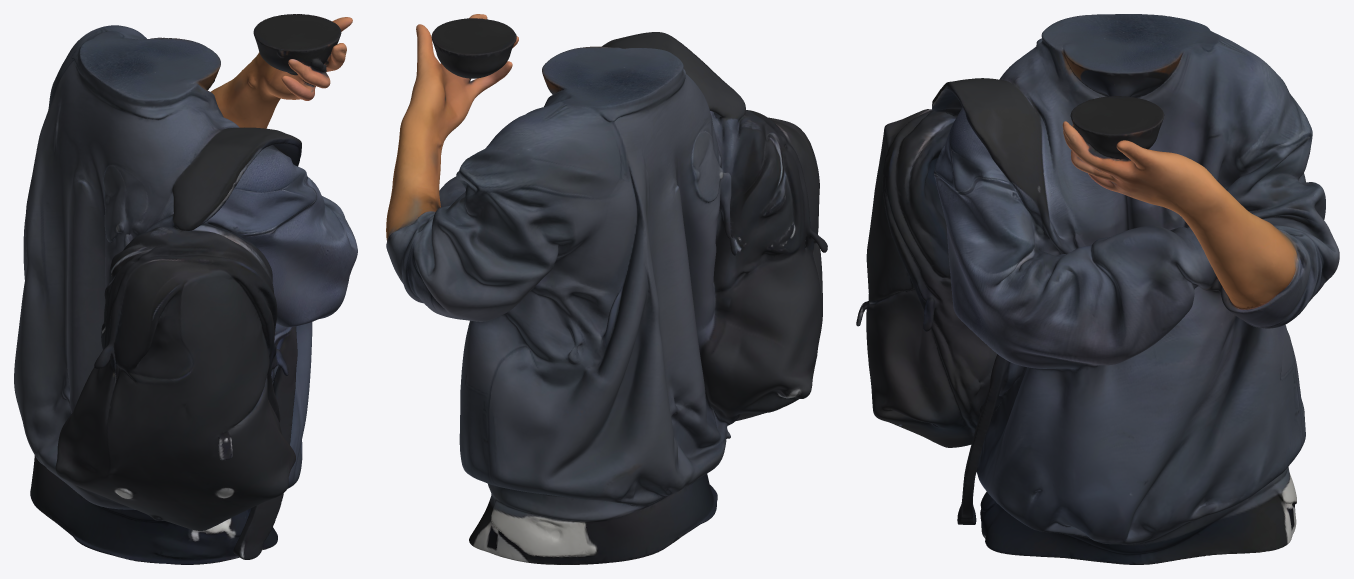
File: tripo_pbr_model_05f1fd90-4d0d-_eaa1be1a_opt.glb
3 views of the same model, side by side, from view 1: azimuth 30°, elevation 25°; view 2: azimuth 150°, elevation 25°; view 3: azimuth 270°, elevation 25° (orthographic). The views are drawn at different scales.
Visible parts, largest first — view 1: tripo_node_05f1fd90-4d0d-47df-9f05-2415d6adb55e; view 2: tripo_node_05f1fd90-4d0d-47df-9f05-2415d6adb55e; view 3: tripo_node_05f1fd90-4d0d-47df-9f05-2415d6adb55e.
Boxes of the visible parts, x1,y1,x2,y2 form: tripo_node_05f1fd90-4d0d-47df-9f05-2415d6adb55e: (14, 14, 357, 564); tripo_node_05f1fd90-4d0d-47df-9f05-2415d6adb55e: (386, 14, 827, 564); tripo_node_05f1fd90-4d0d-47df-9f05-2415d6adb55e: (856, 14, 1339, 564).
Size of the model in its own units: 0.8119 by 1 by 0.9176.
Materials: 1 (1 with a texture image).
